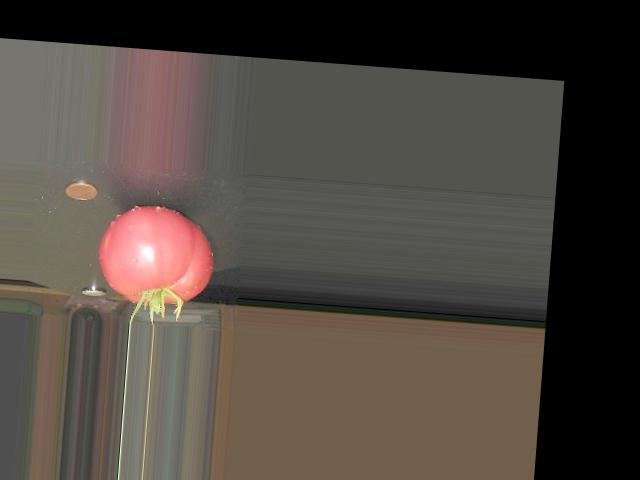tomato: (96, 201, 217, 308)
